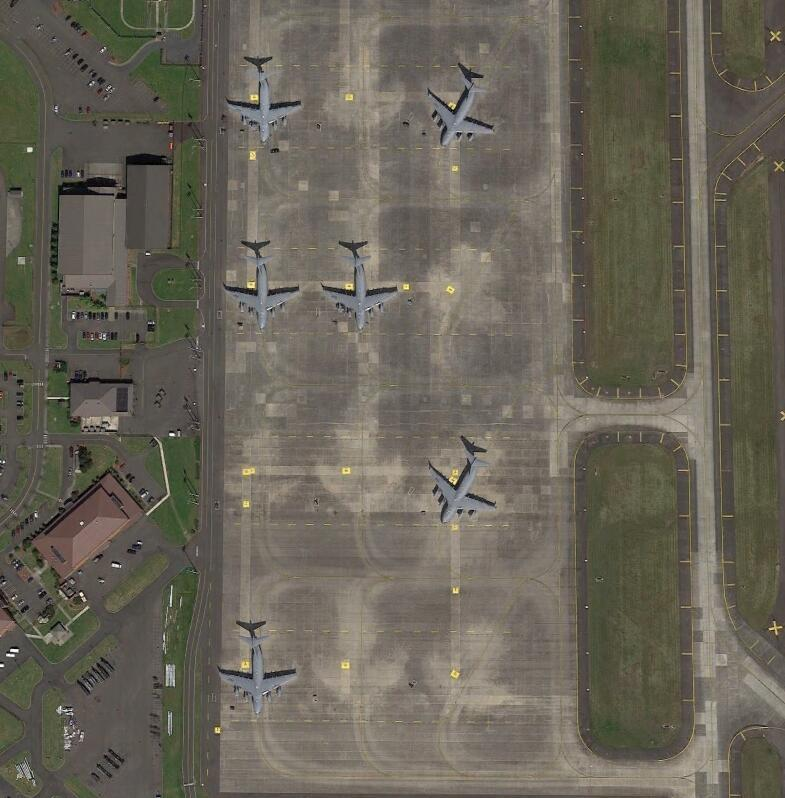A3: (214, 632, 301, 718), (219, 246, 303, 333), (320, 250, 400, 334), (223, 65, 304, 144), (425, 447, 501, 526), (424, 72, 496, 148)
